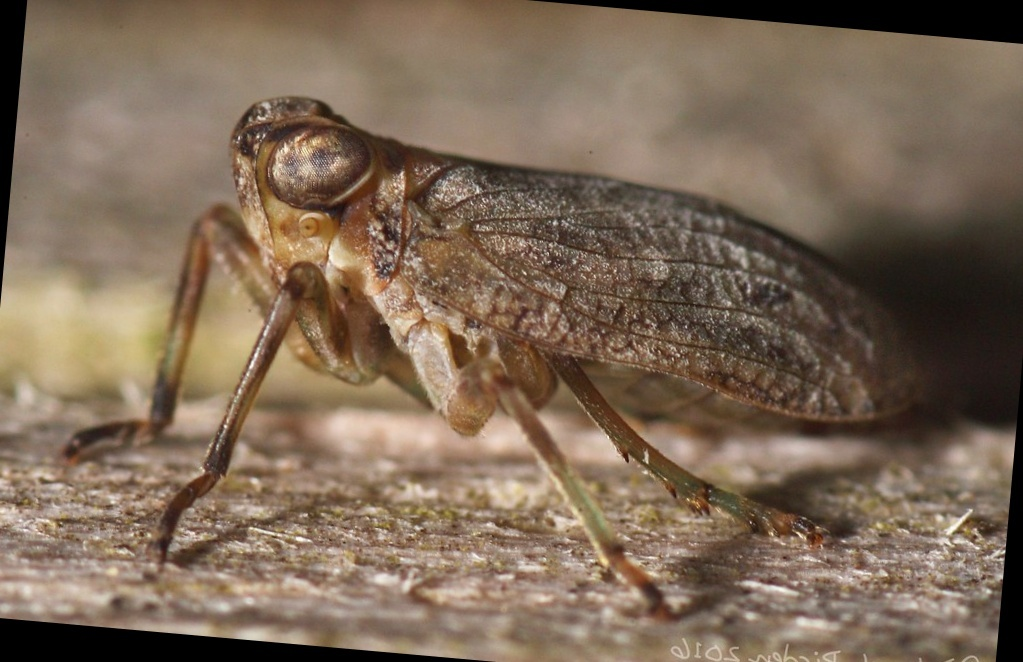Brown_hopper: (166, 80, 883, 506)
